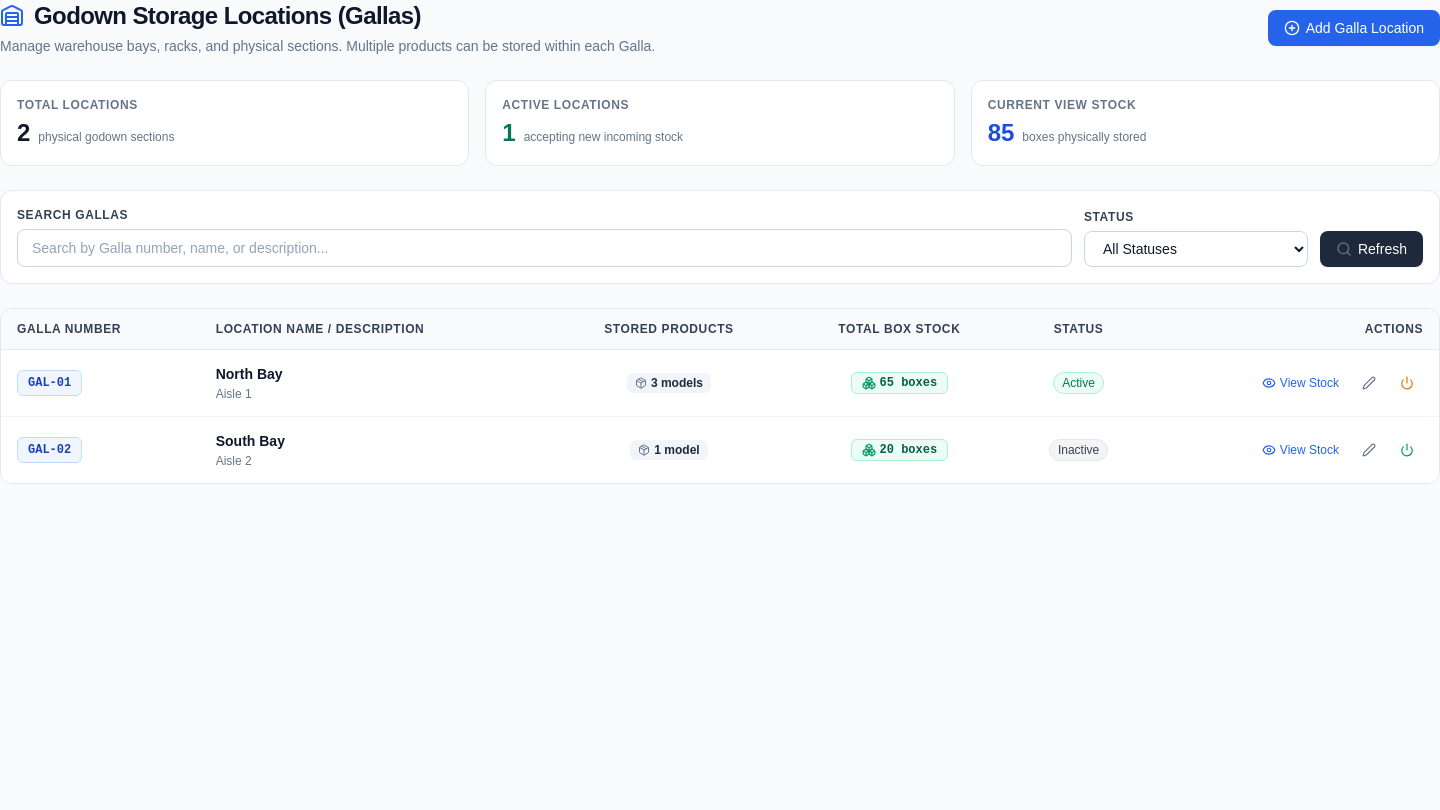
Gallas Management Page › 3. opens stock drawer on View Stock click
Expected: the text "GAL-01" is shown, [17,370,82,396]
Click the button "View Stock" in the row of "GAL-01". click: (1300, 383)
box: [1254,367,1347,399]
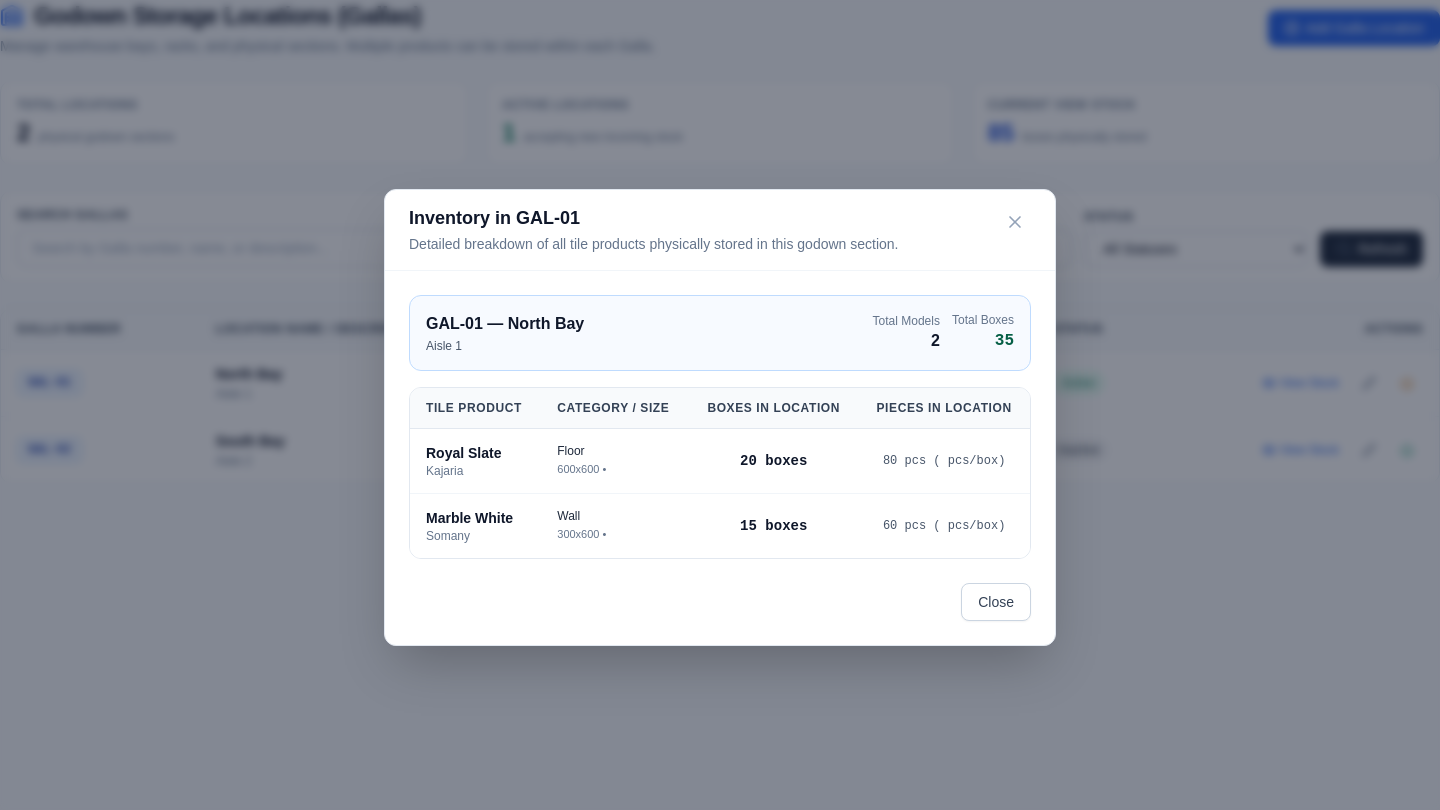
Expected: the heading "Inventory in GAL-01" is shown, [409,208,580,228]
Expected: the text "Royal Slate" is shown, [426,444,502,460]
Expected: the text "Marble White" is shown, [426,508,525,528]
